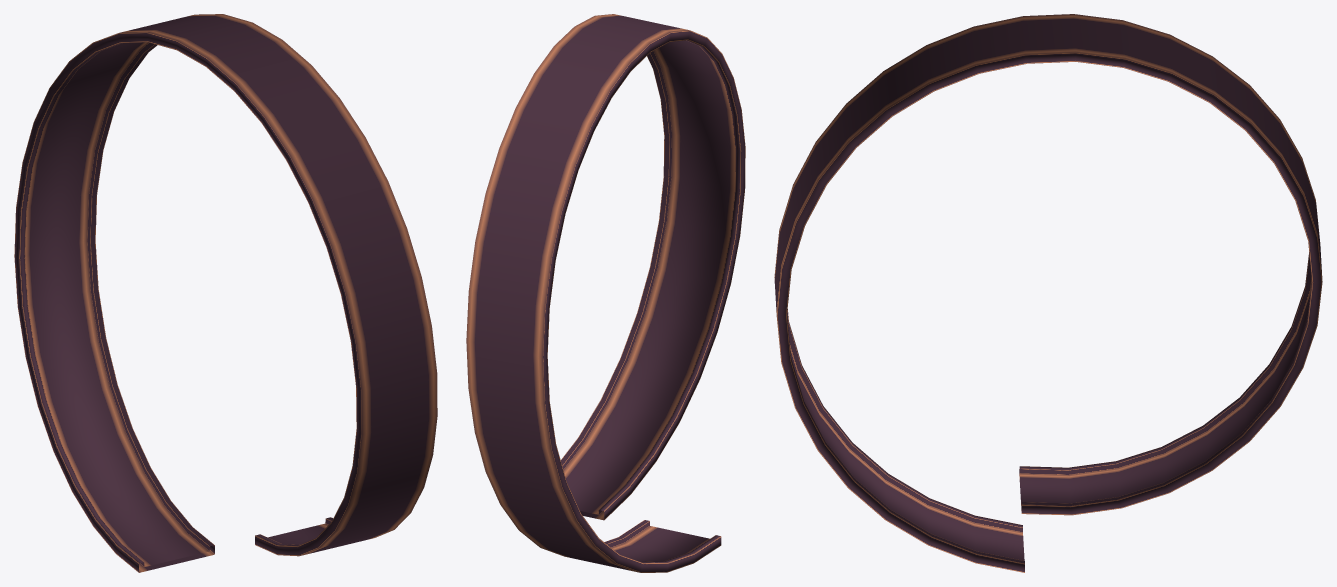
File: loop.obj
3 renders of one model, left to right at view 1: azimuth 30°, elevation 25°; view 2: azimuth 150°, elevation 25°; view 3: azimuth 270°, elevation 25°, orthographic.
Visible parts, largest first — view 1: Cube.007_Cube.009; view 2: Cube.007_Cube.009; view 3: Cube.007_Cube.009.
Part boxes in pixels (x1=…): Cube.007_Cube.009: x1=14, y1=14, x2=437, y2=572; Cube.007_Cube.009: x1=466, y1=14, x2=745, y2=572; Cube.007_Cube.009: x1=774, y1=14, x2=1322, y2=572.
Size of the model in its own units: 137 by 336 by 336.
